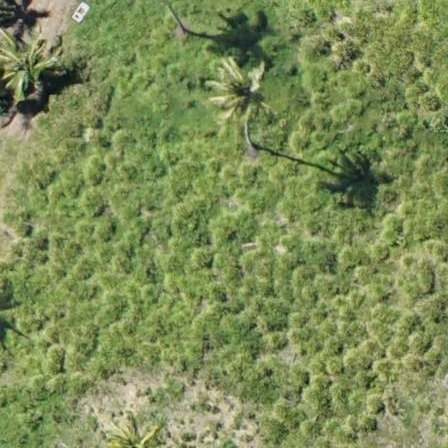palm_tree: (208, 63, 270, 124), (95, 407, 174, 448), (1, 29, 53, 90), (441, 400, 448, 444)
